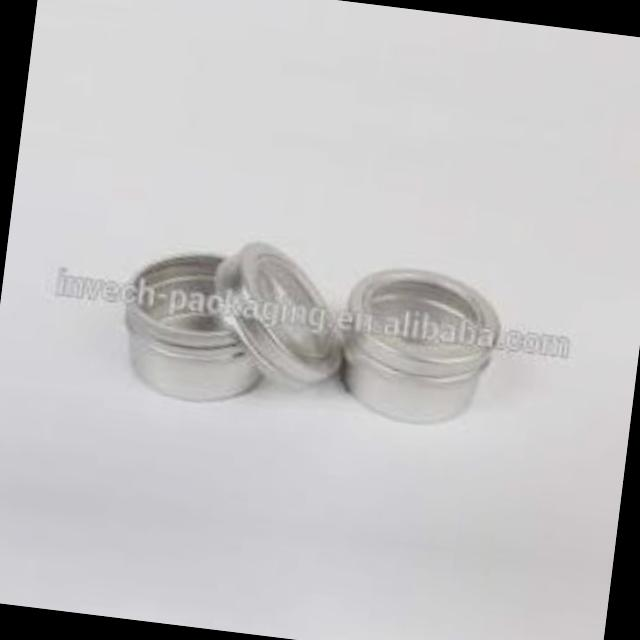Metal: (332, 258, 507, 433), (110, 239, 276, 408), (201, 234, 354, 396)
